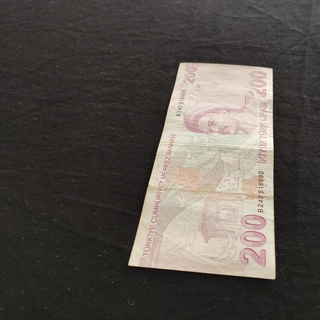200TLBack: (127, 61, 276, 280)
